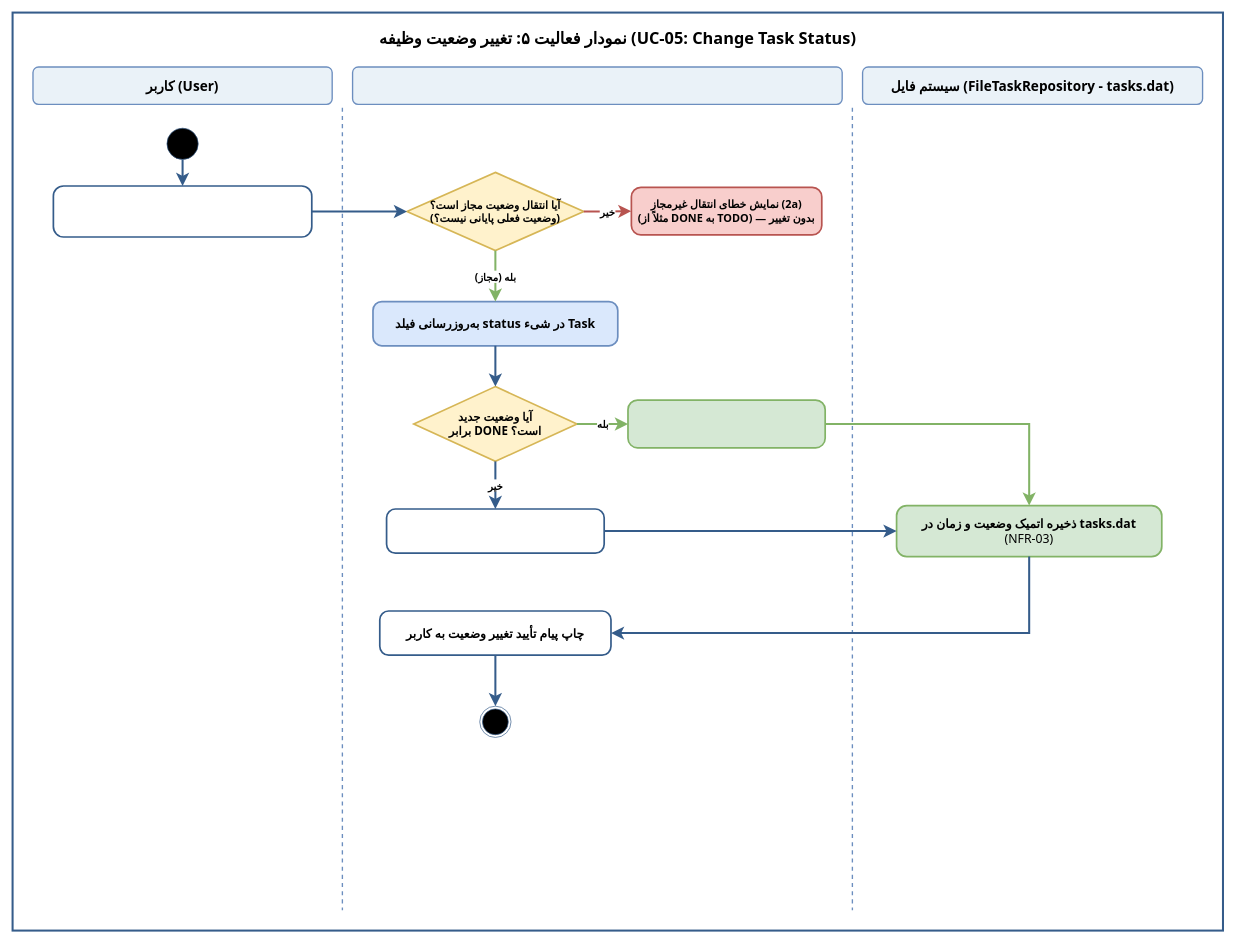
Image size: 1236x943. Some labels were removed from this diagram. Each missing label, with the centre of its shape:
"انتخاب تغییر وضعیت، شناسه تسک و وضعیت هدف (IN_PROGRESS / DONE / CANCELLED)" belongs at point (182, 211).
"حفظ مقدار completedAt = null" belongs at point (495, 531).
"سامانه (ConsoleUI & TaskService)" belongs at point (597, 85).
"مقداردهی completedAt با زمان فعلی (Data Integrity Rule 6.3.3)" belongs at point (726, 423).
